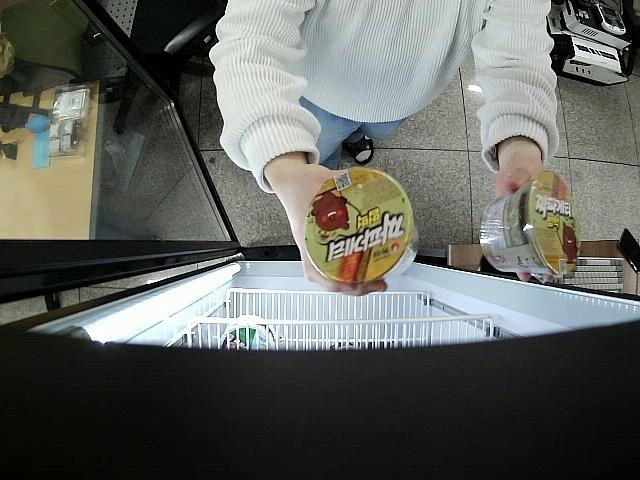04_chapagetti_S: (304, 168, 422, 285), (478, 174, 582, 278)
